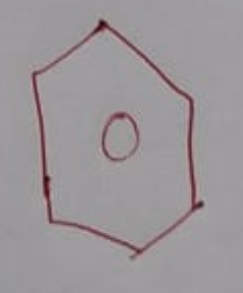shape_mask: (20, 8, 219, 272)
